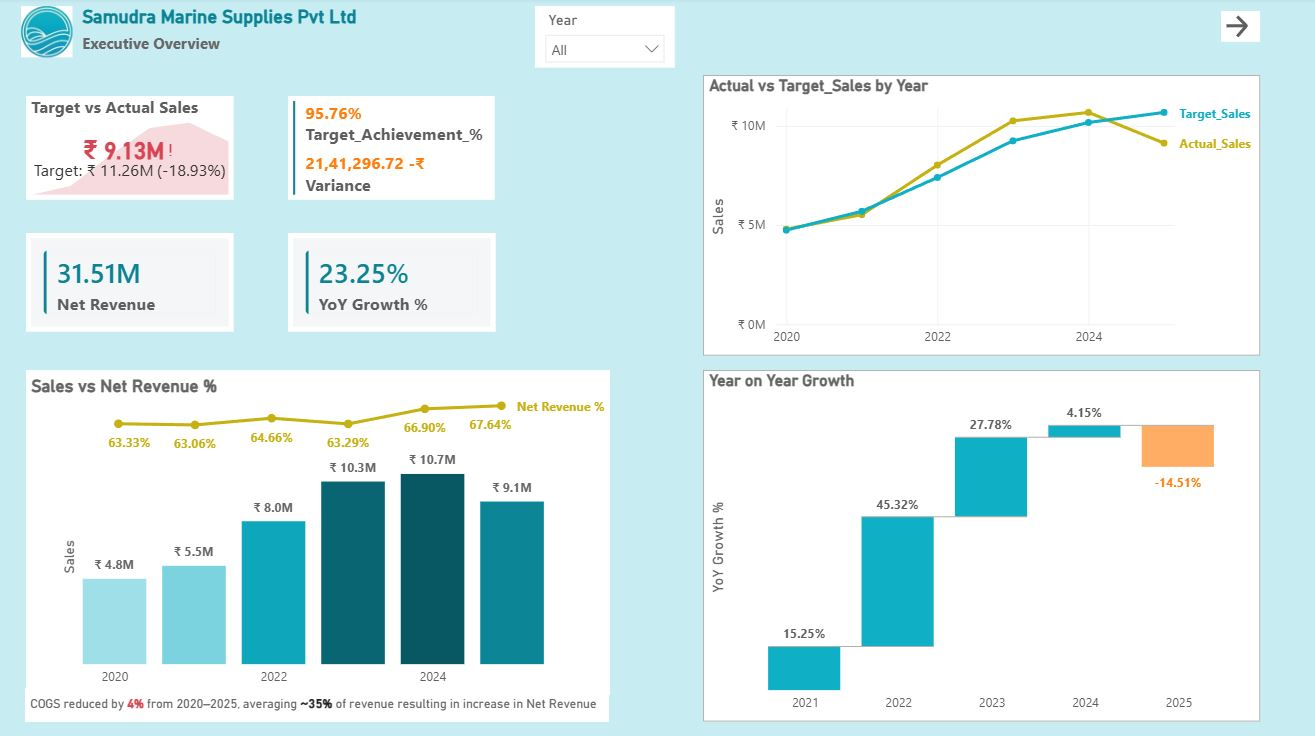

This screenshot's page, from the dashboard's own definition file:
{"tool":"powerbi","page":{"name":"Executive Overview","canvas":[1280,720],"ordinal":1},"visuals":[{"type":"cardVisual","fields":{"Data":["fact _orders.YoY%_Growth"]},"box":[280.1,228.6,202,96.3],"z":0},{"type":"columnChart","fields":{"Category":["dim_date.Year"],"Y":["fact _orders.Actual_Sales"]},"box":[55.2,425.2,478.5,252.9],"z":0,"group":"g1"},{"type":"group","id":"g1","title":"Group 1","box":[25,361.7,568,316.4],"z":1000},{"type":"lineChart","fields":{"Category":["dim_date.Year"],"Y":["fact _orders.Net_Revenue_%"]},"box":[99.9,378.5,493.1,299.6],"z":1000,"group":"g1"},{"type":"slicer","fields":{"Values":["dim_date.Year"]},"box":[520.4,7.8,136.2,60.3],"z":2000},{"type":"textbox","box":[25,361.7,495.1,33.1],"z":2000,"group":"g1"},{"type":"kpi","title":"Target vs Actual Sales","fields":{"Indicator":["fact _orders.Gross_Revenue"],"TrendLine":["dim_date.Date Hierarchy.Year"],"Goal":["fact _orders.Target_Sales"]},"box":[25.3,95.3,202.3,101.2],"z":3000},{"type":"lineChart","title":"Actual vs Target_Sales by Year","fields":{"Category":["dim_date.Year"],"Y2":["fact _orders.Target_Sales"],"Y":["fact _orders.Actual_Sales"]},"box":[683.8,74.9,541.8,273.3],"z":4000},{"type":"multiRowCard","fields":{"Values":["fact _orders.Target_Achievement_%","fact _orders.Variance"]},"box":[280.3,95.4,201.5,101.2],"z":5000},{"type":"waterfallChart","title":"Year on Year Growth ","fields":{"Y":["fact _orders.YoY%_Growth"],"Category":["dim_date.Year"]},"box":[683.8,361.8,541.8,342.4],"z":6000},{"type":"cardVisual","fields":{"Data":["Sum(fact _orders.Net_Revenue)"]},"box":[25.3,228.6,202.3,96.3],"z":7000},{"type":"actionButton","box":[1187.6,12.6,37.9,30.2],"z":8000},{"type":"textbox","box":[24.3,671.1,568,33.1],"z":9000},{"type":"textbox","title":"Samudra Marine Supplies Pvt Ltd","box":[74.9,7.8,277.2,49.6],"z":10000},{"type":"image","box":[16.5,7.8,58.4,49.6],"z":11000}]}

Visuals, with their boxes in screenshot pixels (x1, y1, x2, y2), scaled from the page's 1280x720 canvas onto the 1315x736 screenshot:
cardVisual - fact _orders.YoY%_Growth: <box>288,234,495,332</box>
columnChart - dim_date.Year x fact _orders.Actual_Sales: <box>57,435,548,693</box>
"Group 1" group: <box>26,370,609,693</box>
lineChart - dim_date.Year x fact _orders.Net_Revenue_%: <box>103,387,609,693</box>
slicer - dim_date.Year: <box>535,8,675,70</box>
textbox: <box>26,370,534,404</box>
"Target vs Actual Sales" kpi: <box>26,97,234,201</box>
"Actual vs Target_Sales by Year" lineChart: <box>702,77,1259,356</box>
multiRowCard - fact _orders.Target_Achievement_% x fact _orders.Variance: <box>288,98,495,201</box>
"Year on Year Growth " waterfallChart: <box>702,370,1259,720</box>
cardVisual - Sum(fact _orders.Net_Revenue): <box>26,234,234,332</box>
actionButton: <box>1220,13,1259,44</box>
textbox: <box>25,686,608,720</box>
"Samudra Marine Supplies Pvt Ltd" textbox: <box>77,8,362,59</box>
image: <box>17,8,77,59</box>
